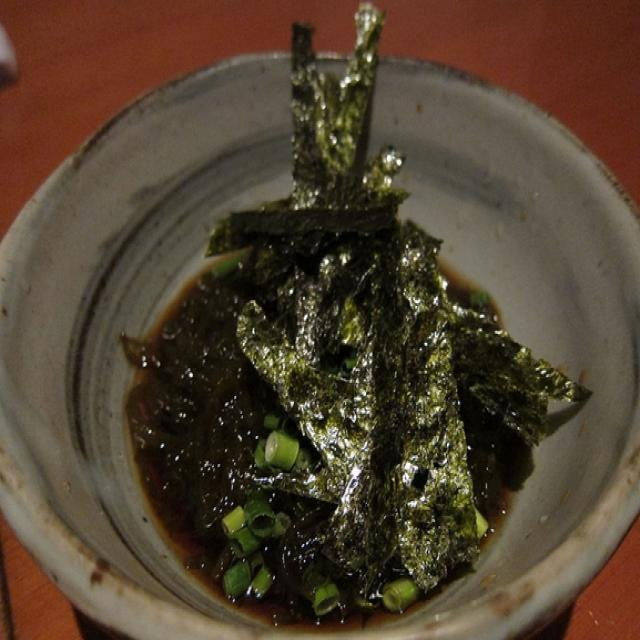蔬菜料理: (30, 41, 619, 615)
